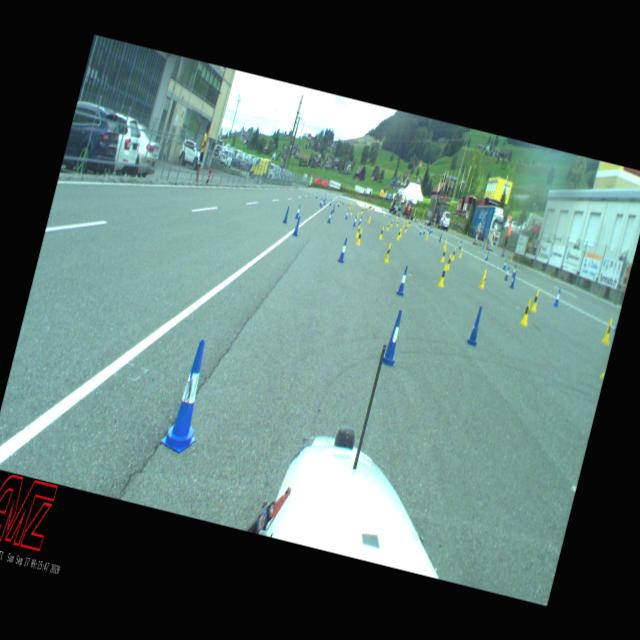blue_cone: (158, 336, 218, 456), (381, 309, 408, 366), (466, 304, 484, 346), (396, 265, 410, 296), (337, 238, 349, 262), (292, 215, 302, 236), (553, 288, 562, 308), (282, 205, 290, 223), (509, 272, 517, 288), (294, 204, 301, 218), (504, 266, 511, 280), (327, 210, 333, 223), (352, 215, 358, 227), (502, 258, 507, 270), (512, 264, 516, 276), (485, 249, 489, 260), (344, 209, 348, 219), (358, 215, 362, 224), (458, 240, 462, 249), (332, 204, 336, 213), (438, 234, 442, 242), (418, 227, 422, 234), (318, 198, 322, 205), (320, 200, 323, 208), (422, 227, 425, 234)
yellow_cone: (601, 318, 614, 344), (520, 298, 532, 326), (437, 263, 448, 287), (530, 289, 540, 311), (382, 243, 392, 264), (479, 268, 488, 288), (356, 228, 363, 245), (446, 253, 452, 270), (440, 248, 447, 262), (355, 224, 361, 238), (378, 226, 384, 239), (396, 228, 402, 239), (451, 248, 456, 260), (458, 246, 463, 258), (442, 238, 447, 248), (398, 227, 402, 237), (386, 221, 390, 230), (424, 231, 428, 240), (404, 224, 408, 232), (390, 219, 393, 227), (396, 220, 399, 227), (368, 215, 371, 222)
